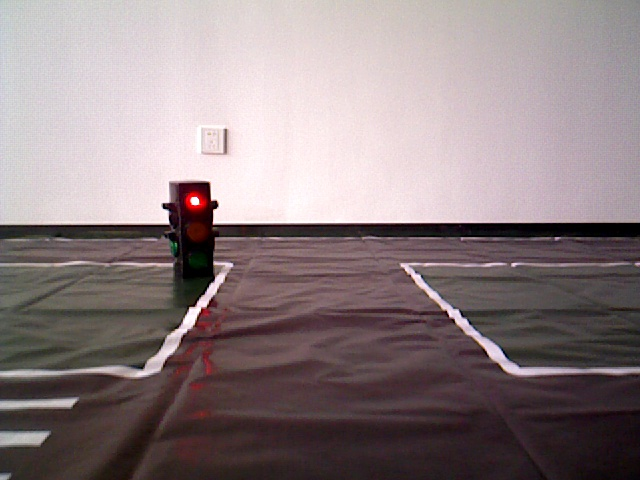red: (171, 185, 212, 284)
